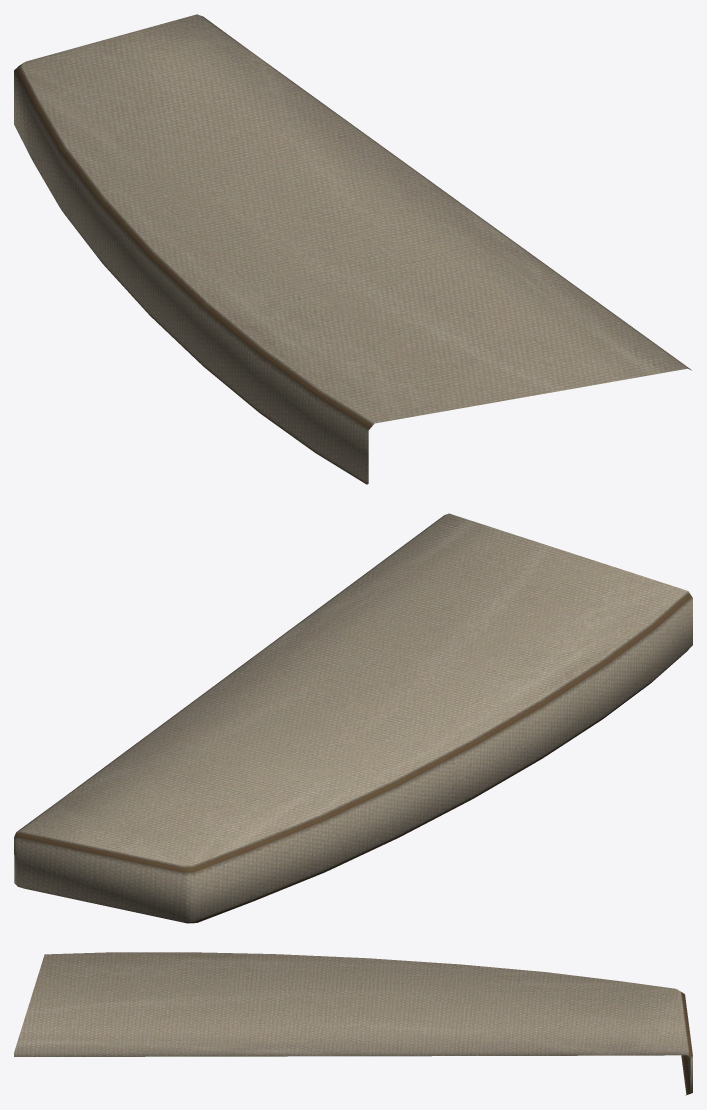
The model's file is p6_cushion_boat_back_lod0.glb.
The picture shows the model from 3 angles, top to bottom: view 1: azimuth 30°, elevation 25°; view 2: azimuth 150°, elevation 25°; view 3: azimuth 270°, elevation 25°; orthographic projection. The views are drawn at different scales.
Visible parts, largest first — view 1: surf0; view 2: surf0; view 3: surf0.
Boxes of the visible parts, x1,y1,x2,y2 form: surf0: [14, 14, 691, 484]; surf0: [14, 513, 692, 923]; surf0: [14, 952, 692, 1095].
Bounding box in the file's own units: 40.26 × 8.1 × 111.
